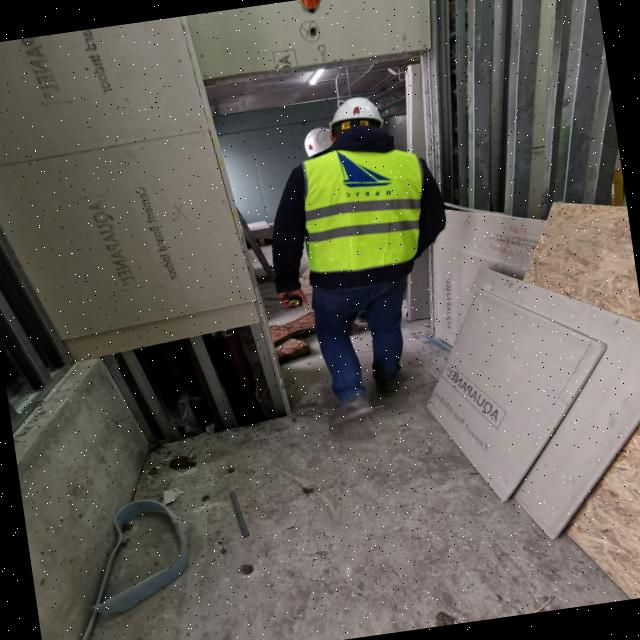Helmet: (330, 97, 386, 134), (303, 127, 335, 158)
Jacket: (302, 140, 423, 281)
